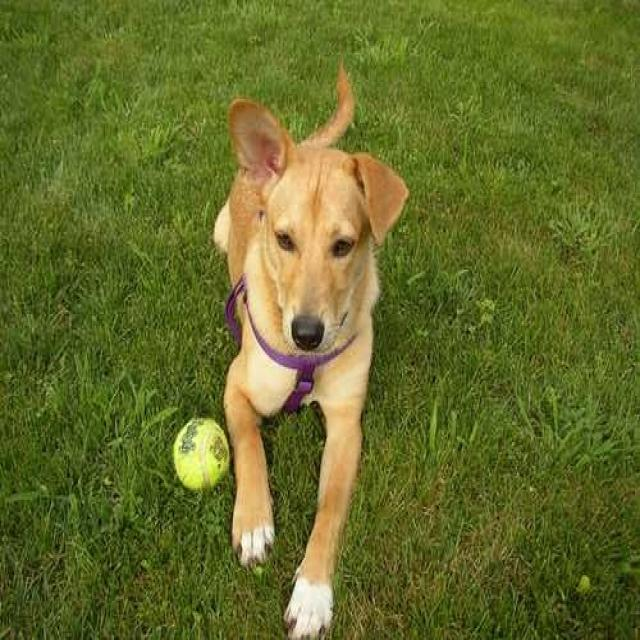Tennis_Ball: (174, 416, 236, 486)
